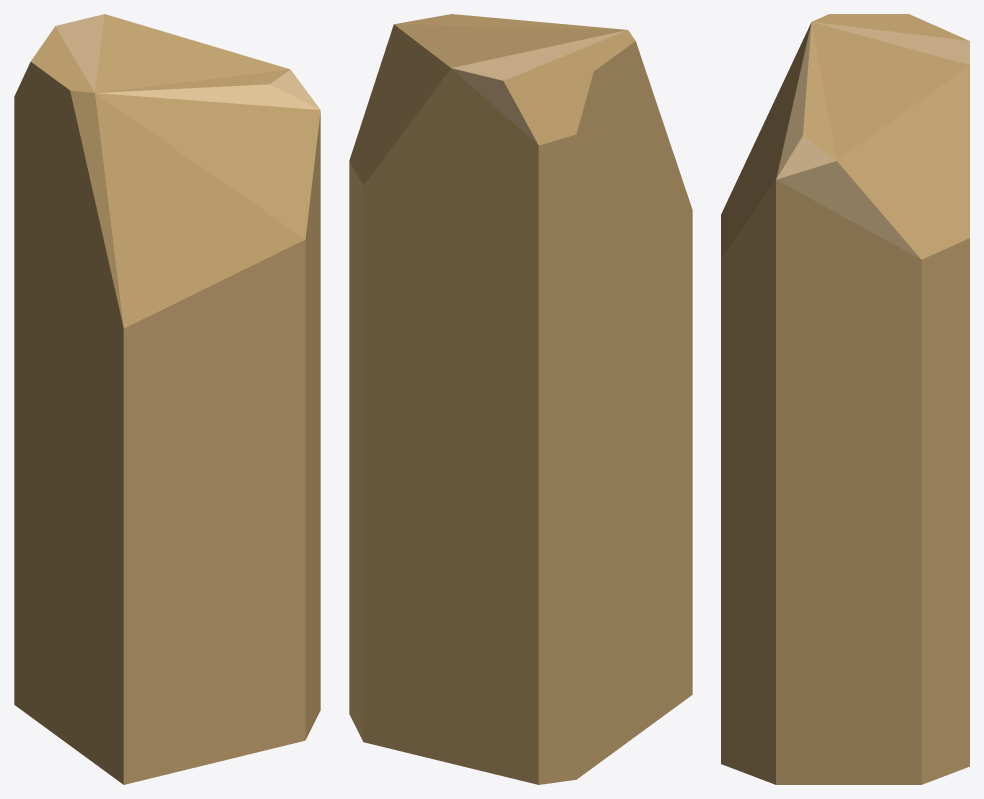
The model's file is desert_rock_6.fbx.
The picture shows the model from 3 angles, left to right: view 1: azimuth 30°, elevation 25°; view 2: azimuth 150°, elevation 25°; view 3: azimuth 270°, elevation 25°; orthographic projection. The views are drawn at different scales.
Parts seen in each view (by area): view 1: desert_rock_6; view 2: desert_rock_6; view 3: desert_rock_6.
Boxes of the visible parts, box(x1,y1,x2,y2) form: desert_rock_6: box(14, 14, 320, 784); desert_rock_6: box(349, 14, 692, 784); desert_rock_6: box(721, 14, 969, 784).
Size of the model in its own units: 47.45 by 132 by 45.24.
